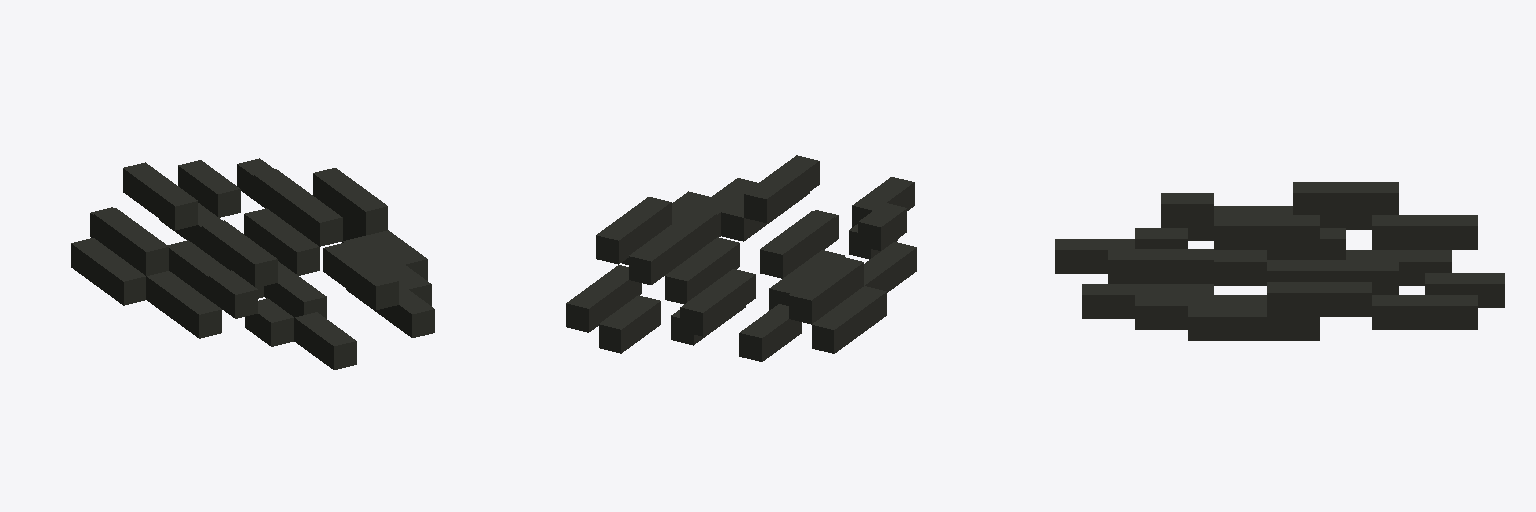
The picture shows the model from 3 angles: view 1: azimuth 30°, elevation 25°; view 2: azimuth 150°, elevation 25°; view 3: azimuth 270°, elevation 25°; orthographic projection.
Visible parts, largest first — view 1: object 1; view 2: object 1; view 3: object 1.
Part boxes in pixels (x1,y1,x2,y2): object 1: (71,158,434,369); object 1: (566,155,916,361); object 1: (1055,182,1504,340).
Size of the model in its own units: 1.1 by 0.2 by 1.7.
Materials: 1 (1 with a texture image).